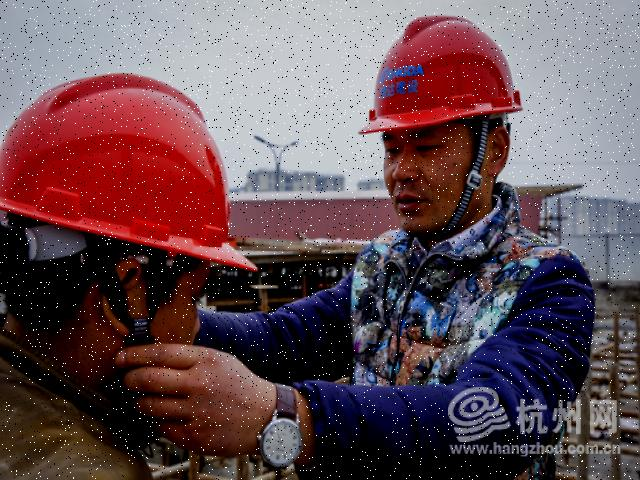Helmet: (0, 68, 259, 274), (351, 11, 525, 145)
